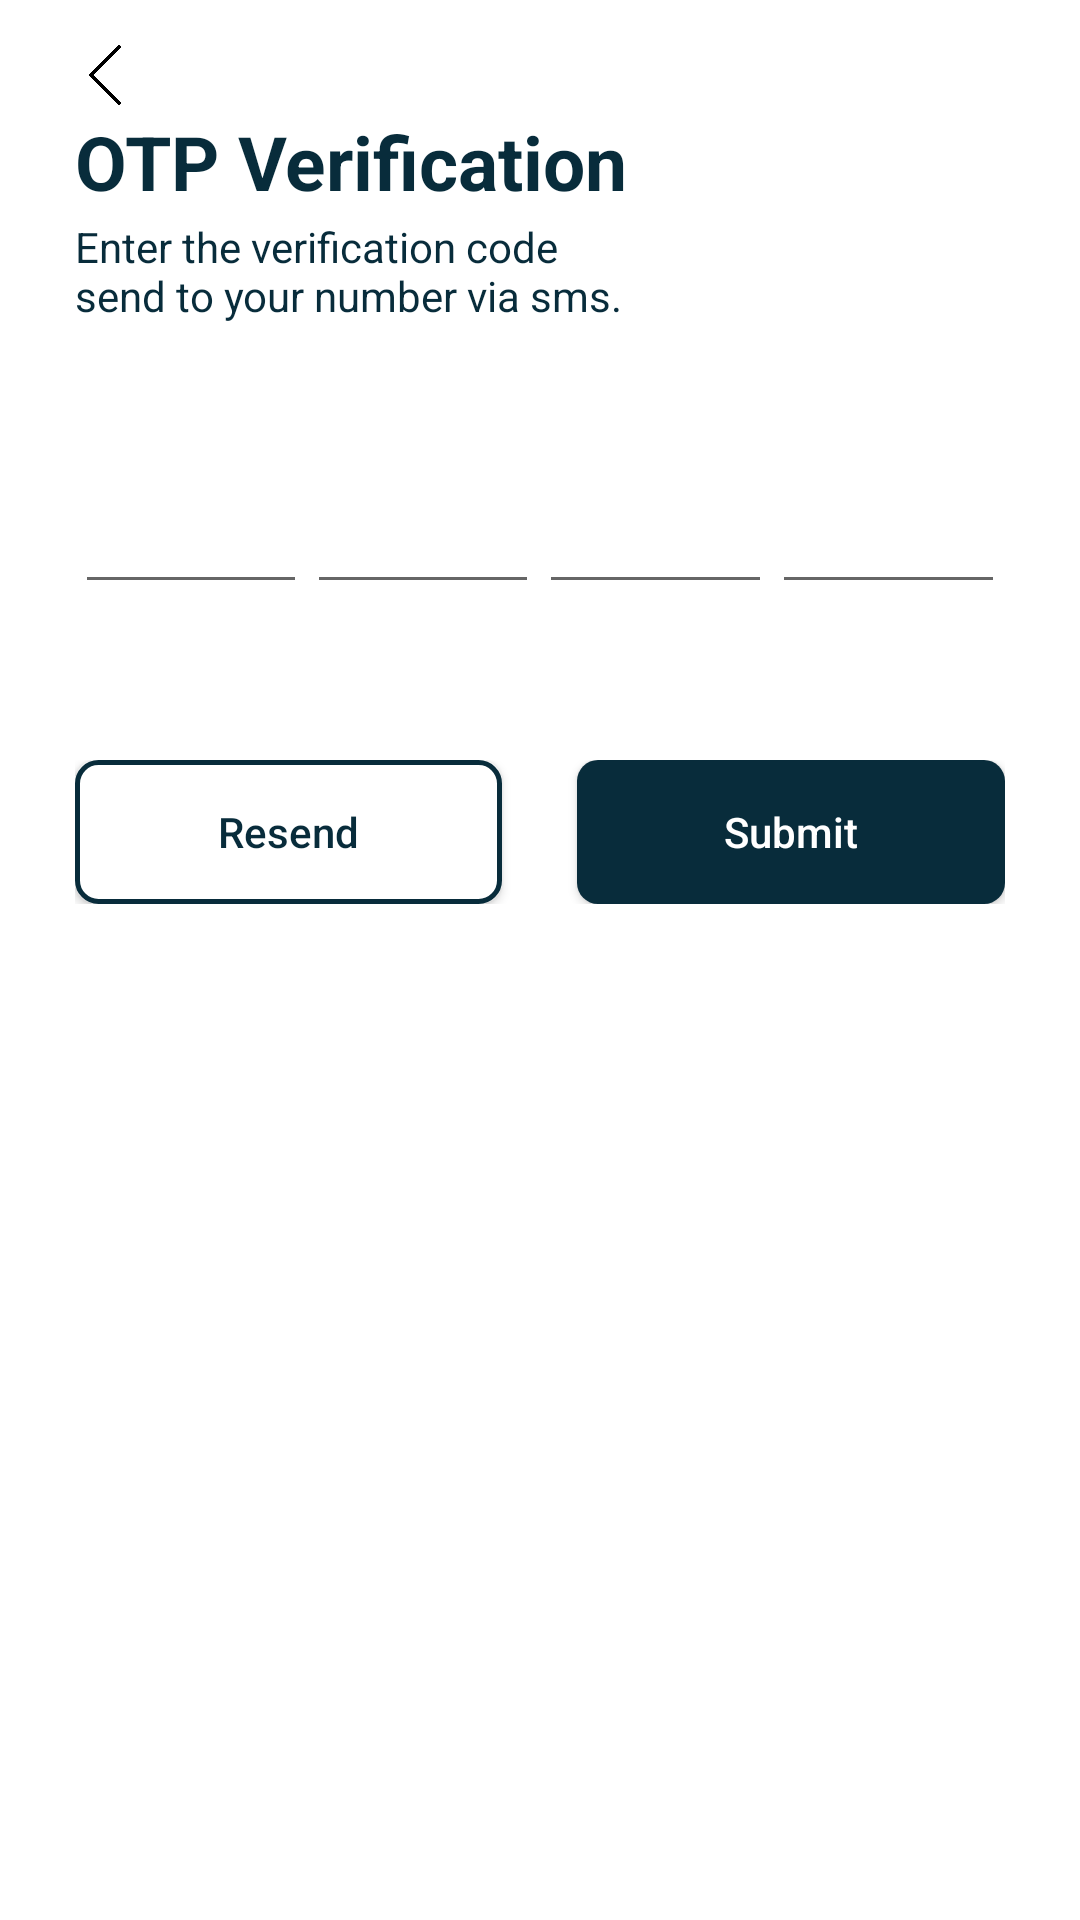

Named icons in this screenshot (1080w x 1920h) and their centers, (x=x, y=y):
back: (x=105, y=75)
